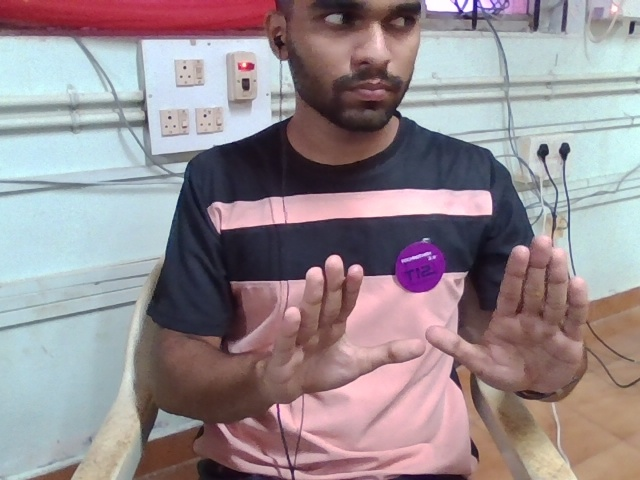All done: (261, 230, 610, 423)
